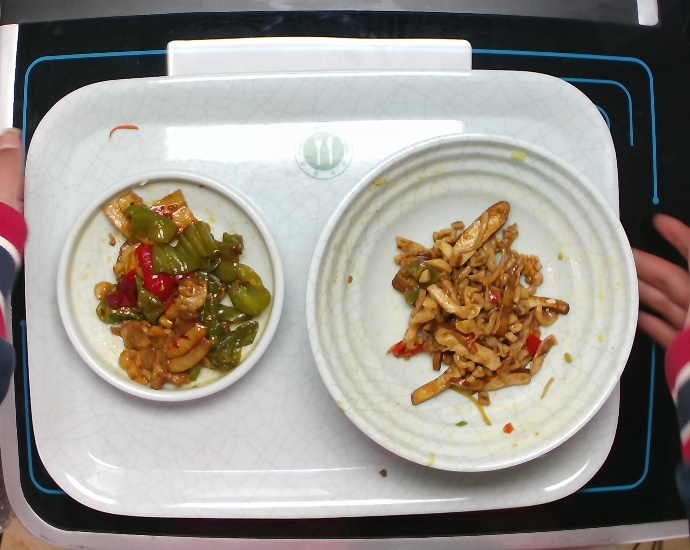JYsf-Da_Tang_Wan: (299, 126, 646, 475)
JYsf-Xiao_Yuan_Pan: (49, 167, 289, 408)
